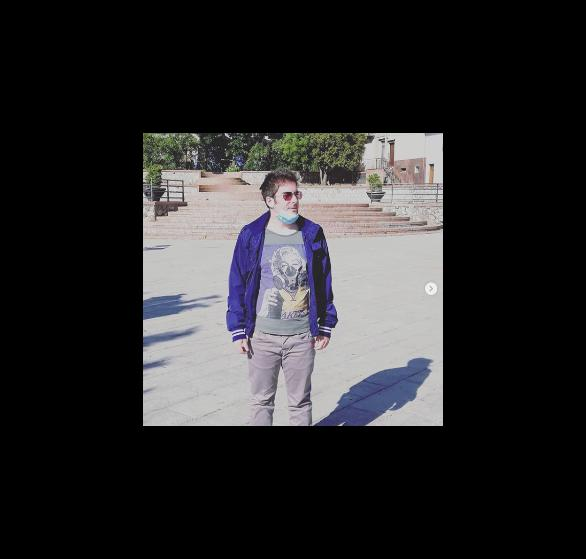mask_weared_incorrect: (277, 192, 301, 224)
